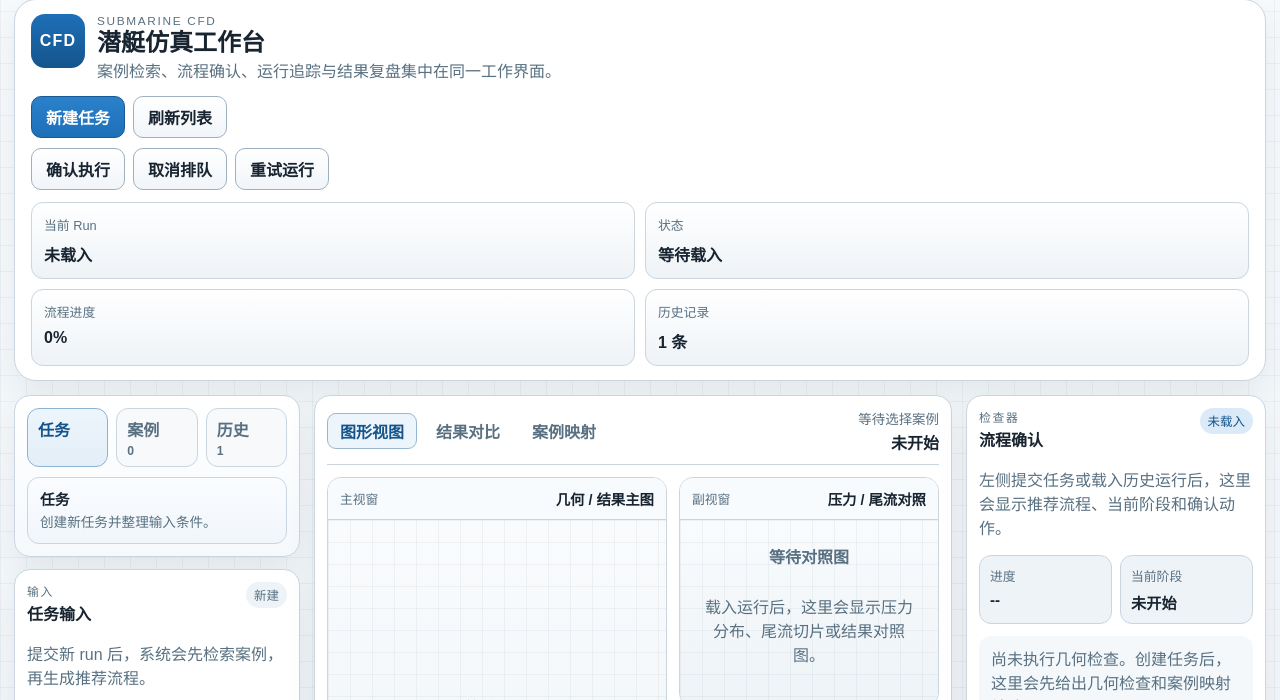
App › shows compact run history entries in the left sidebar
The image size is (1280, 700).
Click the tab "历史 1". click: (246, 438)
box: [206,408,287,467]
(page scrolled)
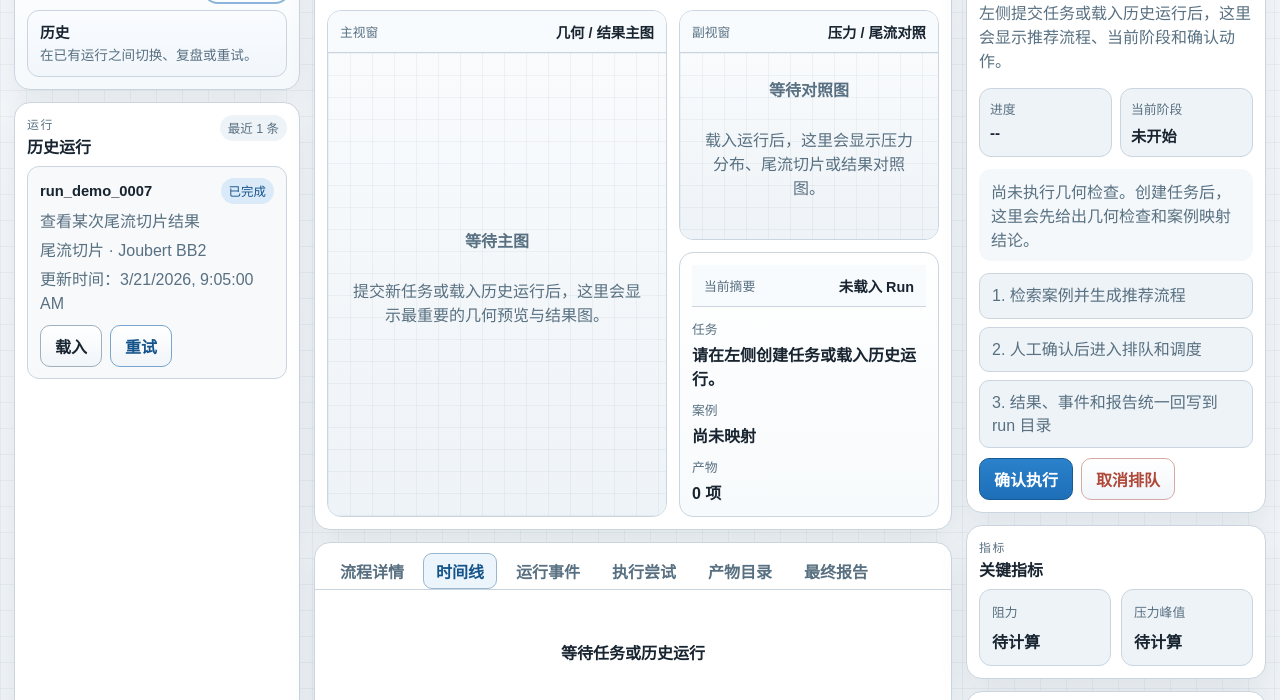
Check: the text "run_demo_0007" is shown, box [40,183,152,199]
Check: the text "查看某次尾流切片结果" is shown, box [40,213,200,230]
Check: the button "载入" is shown, box [40,325,102,367]
